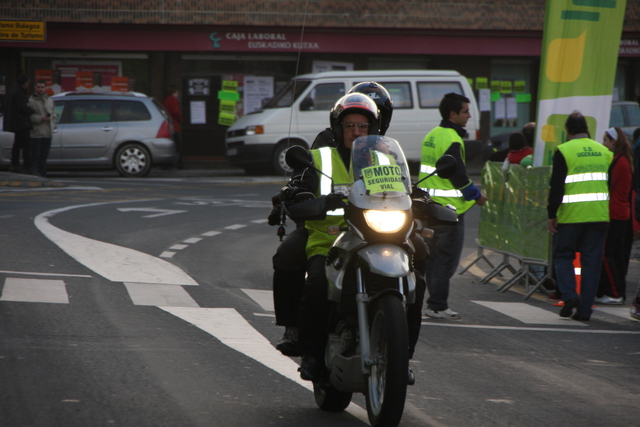helmet: (326, 100, 378, 146)
